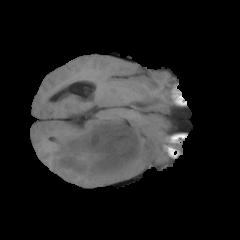glioma: (51, 118, 155, 184)
